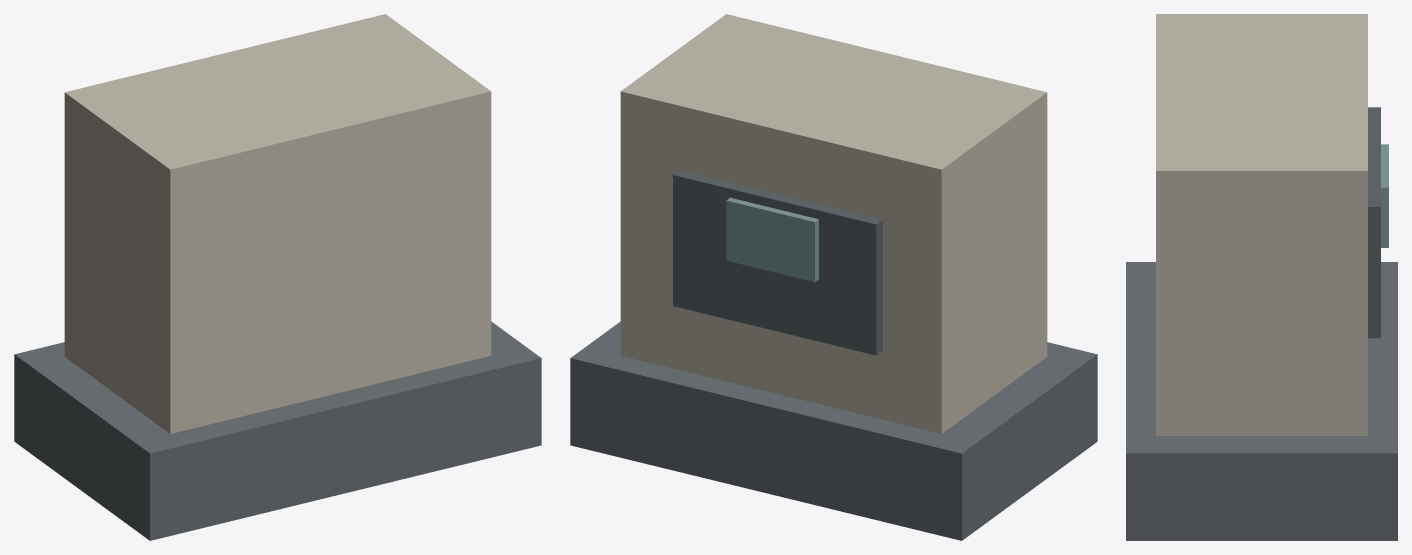
File: iz3_military_generator_01.glb
3 views of the same model, side by side, from view 1: azimuth 30°, elevation 25°; view 2: azimuth 150°, elevation 25°; view 3: azimuth 270°, elevation 25° (orthographic).
Parts seen in each view (by area): view 1: cabinet, base; view 2: cabinet, base, panel, display; view 3: cabinet, base, panel, display.
Boxes of the visible parts, left/top/right/bottom form: cabinet: left=64, top=14, right=491, bottom=433; base: left=14, top=321, right=541, bottom=540; cabinet: left=620, top=14, right=1047, bottom=433; base: left=570, top=321, right=1097, bottom=540; panel: left=673, top=170, right=882, bottom=355; display: left=726, top=197, right=818, bottom=281; cabinet: left=1156, top=14, right=1367, bottom=435; base: left=1126, top=262, right=1397, bottom=540; panel: left=1368, top=107, right=1380, bottom=338; display: left=1381, top=144, right=1388, bottom=247.
Bounding box in the file's own units: 1.5 × 1.29 × 0.9.
